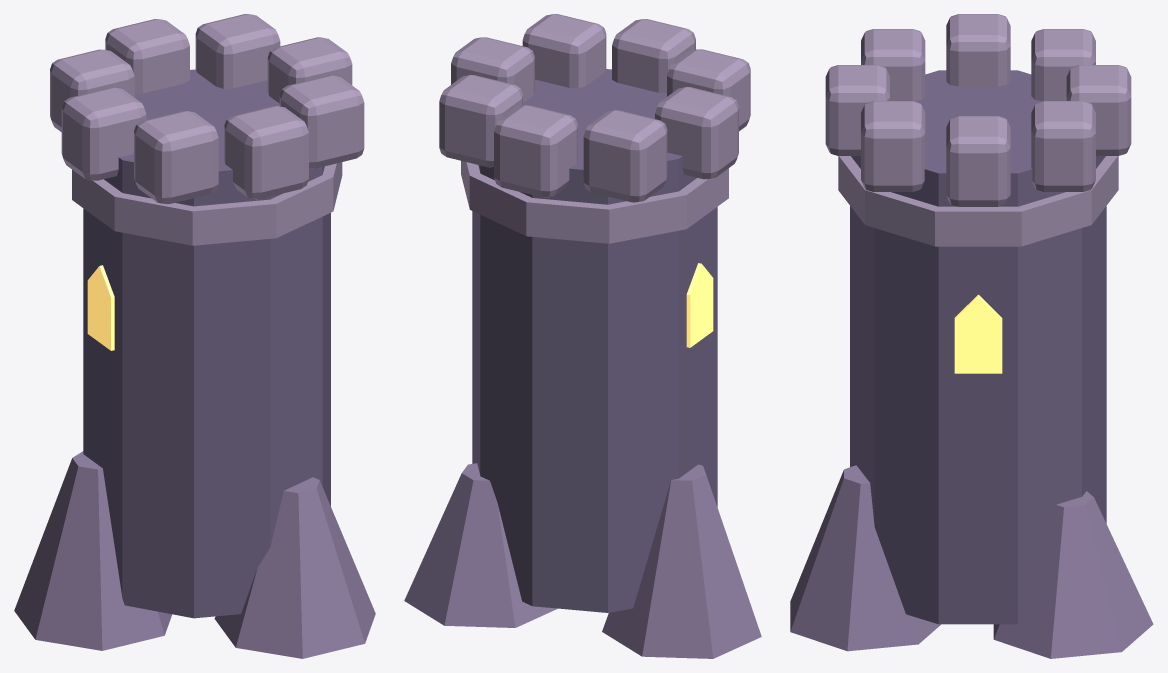
File: ember_tower_b.glb
3 views of the same model, side by side, from view 1: azimuth 30°, elevation 25°; view 2: azimuth 150°, elevation 25°; view 3: azimuth 270°, elevation 25° (orthographic). The views are drawn at different scales.
Parts seen in each view (by area): view 1: TowerBody.001, BasaltShoulder.004, BasaltShoulder.005, UpperBand.001, Crenel_05.001, Crenel_04.001, Crenel_06.001, Crenel_03.001, Crenel_01.001, Crenel_00.001, Crenel_07.001, Crenel_02.001 (+1 smaller); view 2: TowerBody.001, BasaltShoulder.005, BasaltShoulder.003, UpperBand.001, Crenel_07.001, Crenel_00.001, Crenel_06.001, Crenel_01.001, Crenel_03.001, Crenel_04.001, Crenel_05.001, Crenel_02.001 (+1 smaller); view 3: TowerBody.001, BasaltShoulder.003, BasaltShoulder.004, UpperBand.001, Crenel_02.001, Crenel_01.001, Crenel_03.001, Crenel_06.001, Crenel_00.001, Crenel_04.001, Crenel_05.001, Crenel_07.001 (+1 smaller).
Part boxes in pixels (x1,y1,x2,y2): TowerBody.001: (83, 69, 330, 618); BasaltShoulder.004: (214, 477, 375, 658); BasaltShoulder.005: (14, 451, 172, 650); UpperBand.001: (72, 162, 342, 245); Crenel_05.001: (134, 111, 218, 204); Crenel_04.001: (224, 106, 308, 199); Crenel_06.001: (61, 87, 146, 180); Crenel_03.001: (279, 75, 364, 168); Crenel_01.001: (195, 14, 280, 88); Crenel_00.001: (105, 19, 189, 93); Crenel_07.001: (50, 49, 134, 131); Crenel_02.001: (267, 37, 352, 103); TowerBody.001: (472, 69, 717, 612); BasaltShoulder.005: (602, 464, 761, 658); BasaltShoulder.003: (404, 463, 557, 627); UpperBand.001: (461, 161, 728, 243); Crenel_07.001: (583, 110, 667, 202); Crenel_00.001: (494, 105, 577, 197); Crenel_06.001: (655, 87, 738, 179); Crenel_01.001: (439, 75, 522, 167); Crenel_03.001: (522, 14, 606, 88); Crenel_04.001: (612, 19, 695, 93); Crenel_05.001: (667, 49, 750, 131); Crenel_02.001: (451, 37, 534, 102); TowerBody.001: (850, 70, 1106, 624); BasaltShoulder.003: (993, 491, 1153, 658); BasaltShoulder.004: (790, 465, 940, 651); UpperBand.001: (838, 156, 1118, 246); Crenel_02.001: (946, 116, 1010, 206); Crenel_01.001: (1031, 101, 1095, 191); Crenel_03.001: (861, 101, 925, 191); Crenel_06.001: (946, 14, 1010, 86); Crenel_00.001: (1066, 65, 1131, 155); Crenel_04.001: (825, 65, 889, 155); Crenel_05.001: (861, 29, 925, 101); Crenel_07.001: (1031, 29, 1095, 101).
Size of the model in its own units: 5.11 by 8.38 by 5.18.
